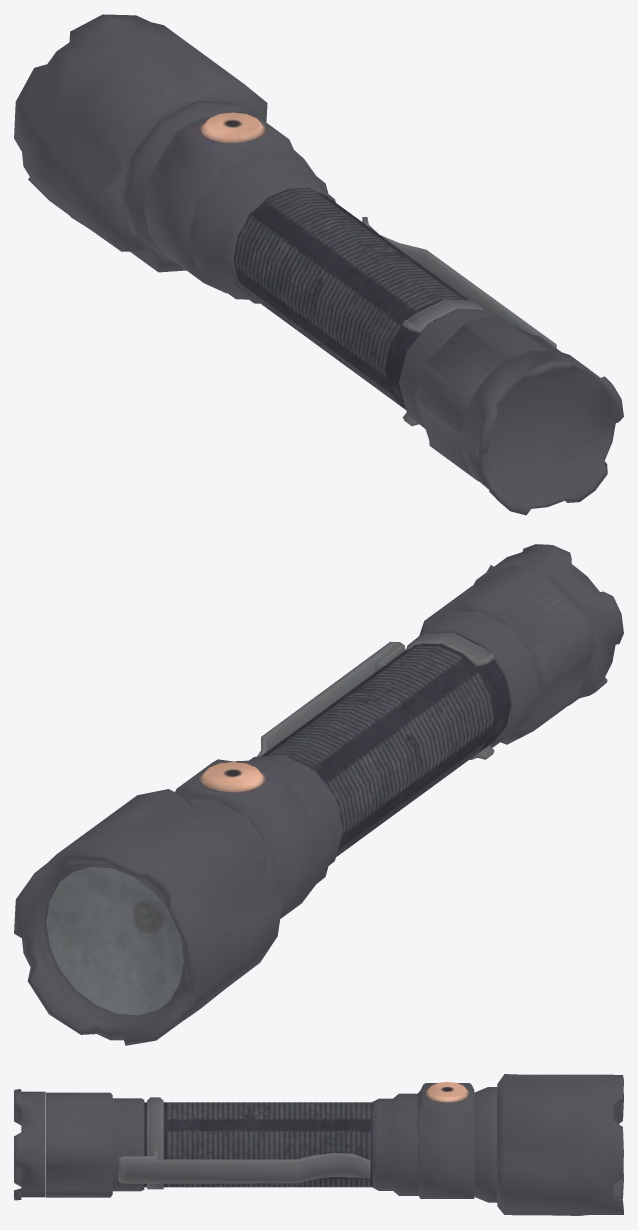
Rendered from flashlight.glb.
3 views of the same model, one above another, from view 1: azimuth 30°, elevation 25°; view 2: azimuth 150°, elevation 25°; view 3: azimuth 270°, elevation 25° (orthographic). The views are drawn at different scales.
Parts seen in each view (by area): view 1: flashlight; view 2: flashlight; view 3: flashlight.
Boxes of the visible parts, x1,y1,x2,y2 form: flashlight: [14, 14, 623, 515]; flashlight: [14, 544, 623, 1045]; flashlight: [14, 1074, 623, 1215].
Size of the model in its own units: 0.0513 by 0.0515 by 0.22.
1 material, 1 textured.
